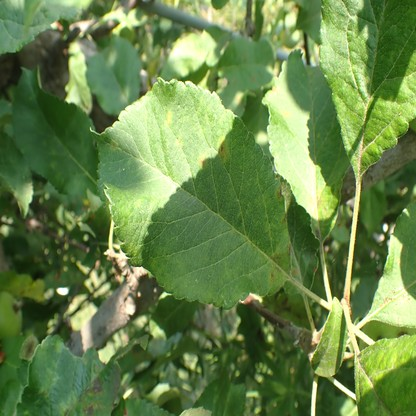powdery_mildew: (317, 329, 335, 355)
scab: (36, 341, 63, 400), (268, 246, 290, 283), (78, 377, 102, 403), (217, 137, 229, 162), (317, 199, 331, 215), (274, 186, 283, 201), (83, 404, 95, 415), (199, 153, 207, 168), (166, 111, 172, 125), (109, 140, 117, 150), (281, 215, 286, 225), (64, 408, 70, 416), (292, 270, 297, 275)
